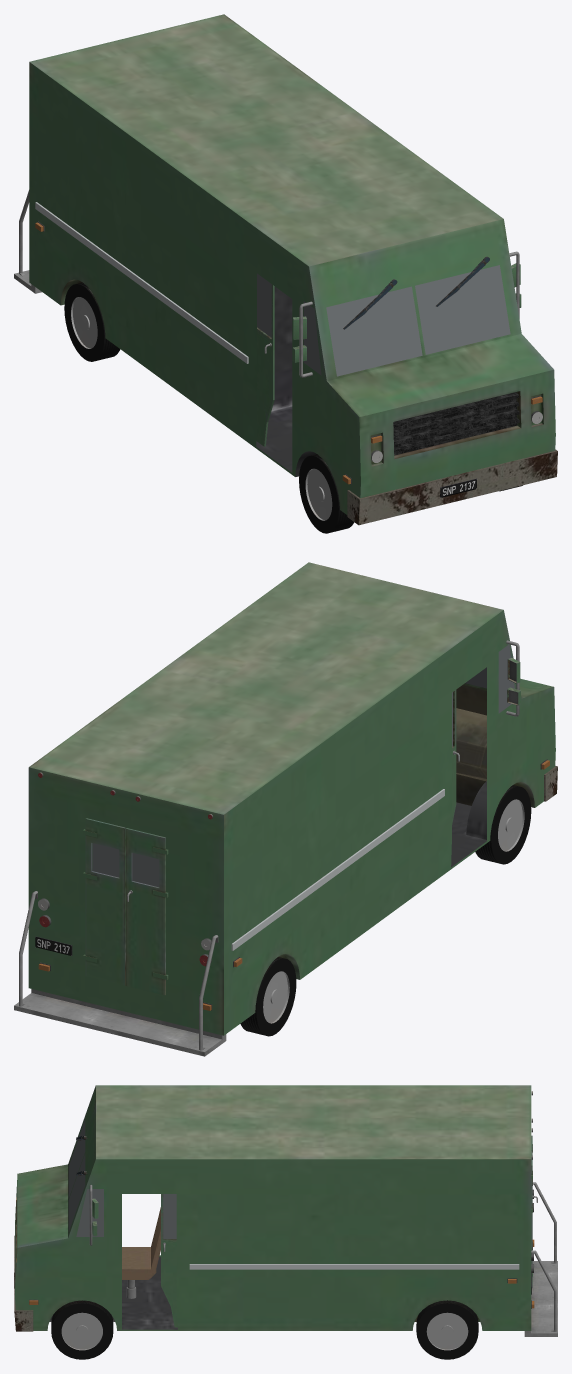
File: veh_stepvan.glb
The picture shows the model from 3 angles, top to bottom: view 1: azimuth 30°, elevation 25°; view 2: azimuth 150°, elevation 25°; view 3: azimuth 270°, elevation 25°; orthographic projection. The views are drawn at different scales.
Parts seen in each view (by area): view 1: Car; view 2: Car; view 3: Car.
Boxes of the visible parts, left/top/right/bottom form: Car: left=14, top=14, right=557, bottom=533; Car: left=14, top=562, right=557, bottom=1056; Car: left=14, top=1085, right=557, bottom=1359.
Bounding box in the file's own units: 2.26 × 2.46 × 6.04.
Materials: 29 (29 with a texture image).
